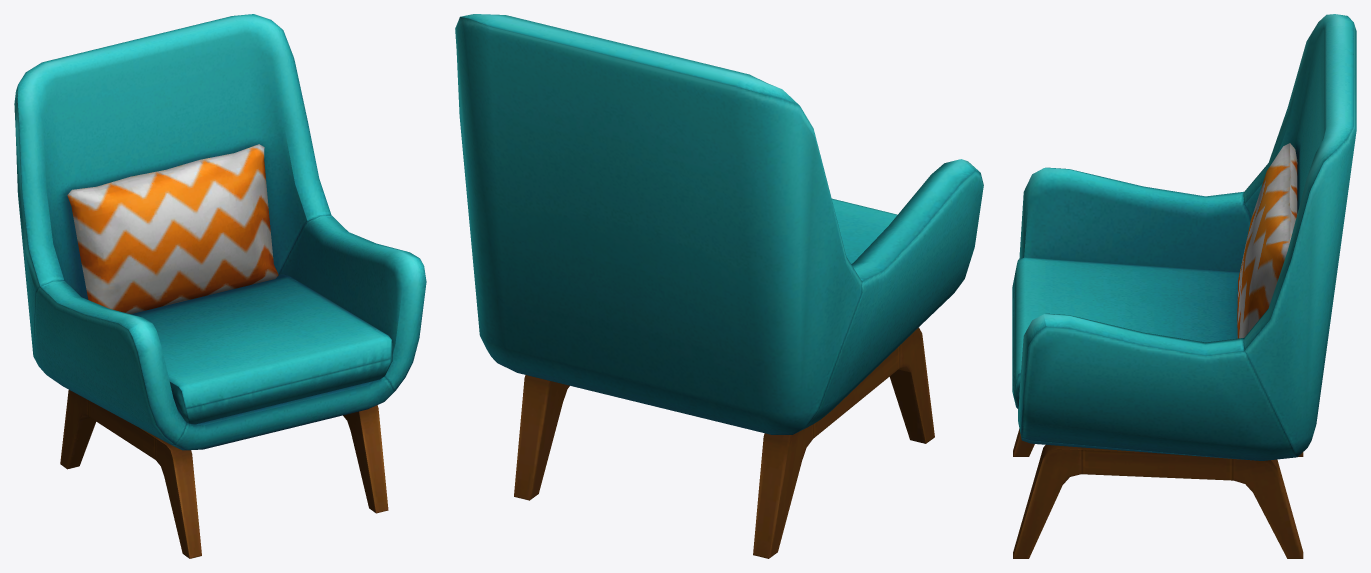
Rendered from lovely_armchair.glb.
3 renders of one model, left to right at view 1: azimuth 30°, elevation 25°; view 2: azimuth 150°, elevation 25°; view 3: azimuth 270°, elevation 25°, orthographic. The views are drawn at different scales.
Visible parts, largest first — view 1: TinyLiving_LovelyArmchair; view 2: TinyLiving_LovelyArmchair; view 3: TinyLiving_LovelyArmchair.
Boxes of the visible parts, <box> form: TinyLiving_LovelyArmchair: <box>14,14,426,558</box>; TinyLiving_LovelyArmchair: <box>455,14,983,558</box>; TinyLiving_LovelyArmchair: <box>1012,14,1356,558</box>.
Size of the model in its own units: 0.8216 by 1.03 by 0.7393.
1 material, 1 textured.
